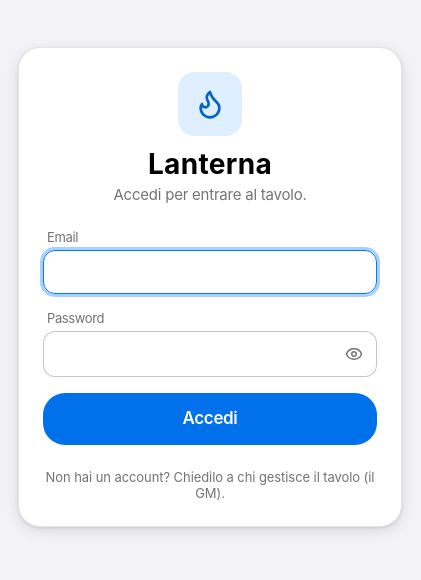
Scenario: login › credenziali errate: messaggio generico e nessun accesso
The image size is (421, 580).
Type "chi@example.org" into the field labelled "Email". click: (210, 272)
box: [56,251,364,293]
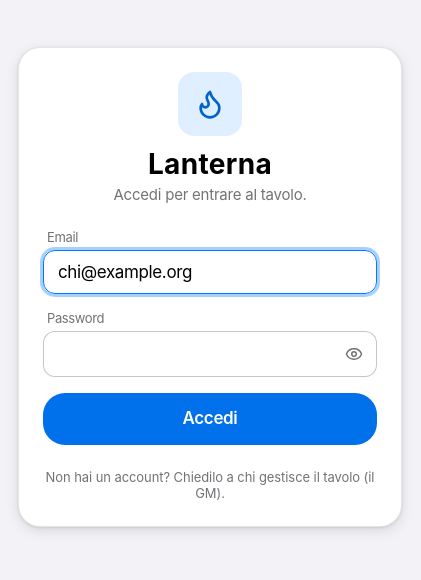
Type "sbagliata" into the password field labelled "Password". click: (194, 354)
box: [56,332,332,376]
Then press Enter
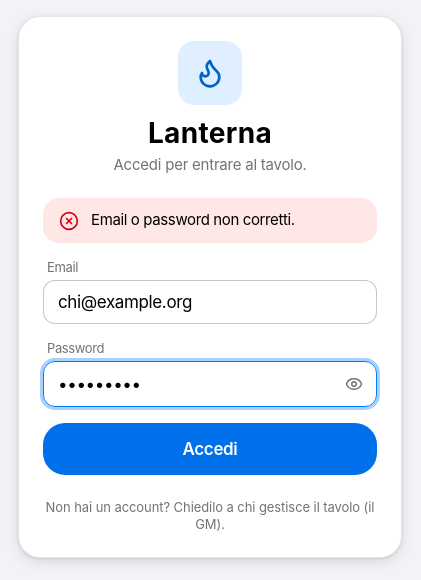
Expected: the button "Accedi" is enabled, [43,423,377,475]
Expected: the message reads "Email o password non corretti.", [91,210,295,229]
